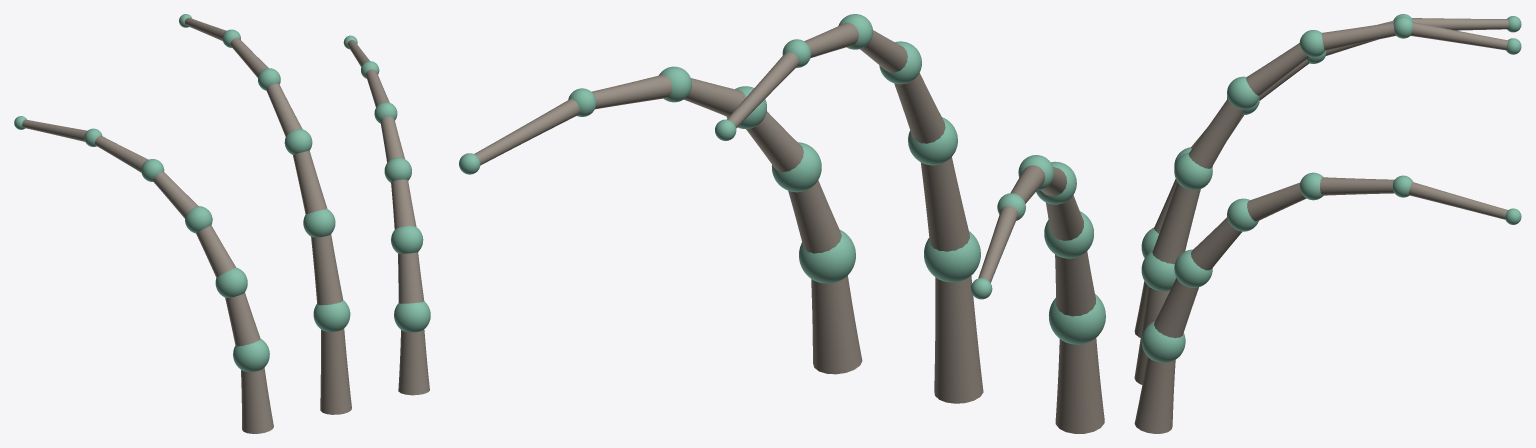
Rendered from thresh_crown.glb.
3 views of the same model, side by side, from view 1: azimuth 30°, elevation 25°; view 2: azimuth 150°, elevation 25°; view 3: azimuth 270°, elevation 25° (orthographic). The views are drawn at different scales.
Visible parts, largest first — view 1: thresh_crown; view 2: thresh_crown; view 3: thresh_crown.
Part boxes in pixels (x1,y1,x2,y2): thresh_crown: [14, 14, 430, 433]; thresh_crown: [459, 14, 1105, 433]; thresh_crown: [1134, 14, 1521, 433].
Bounding box in the file's own units: 0.3938 × 0.335 × 0.3228.
